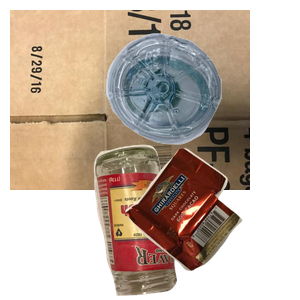cardboard: (10, 10, 250, 190)
glass: (91, 142, 260, 300)
plastic: (104, 31, 300, 168)
trash: (123, 145, 300, 300)
